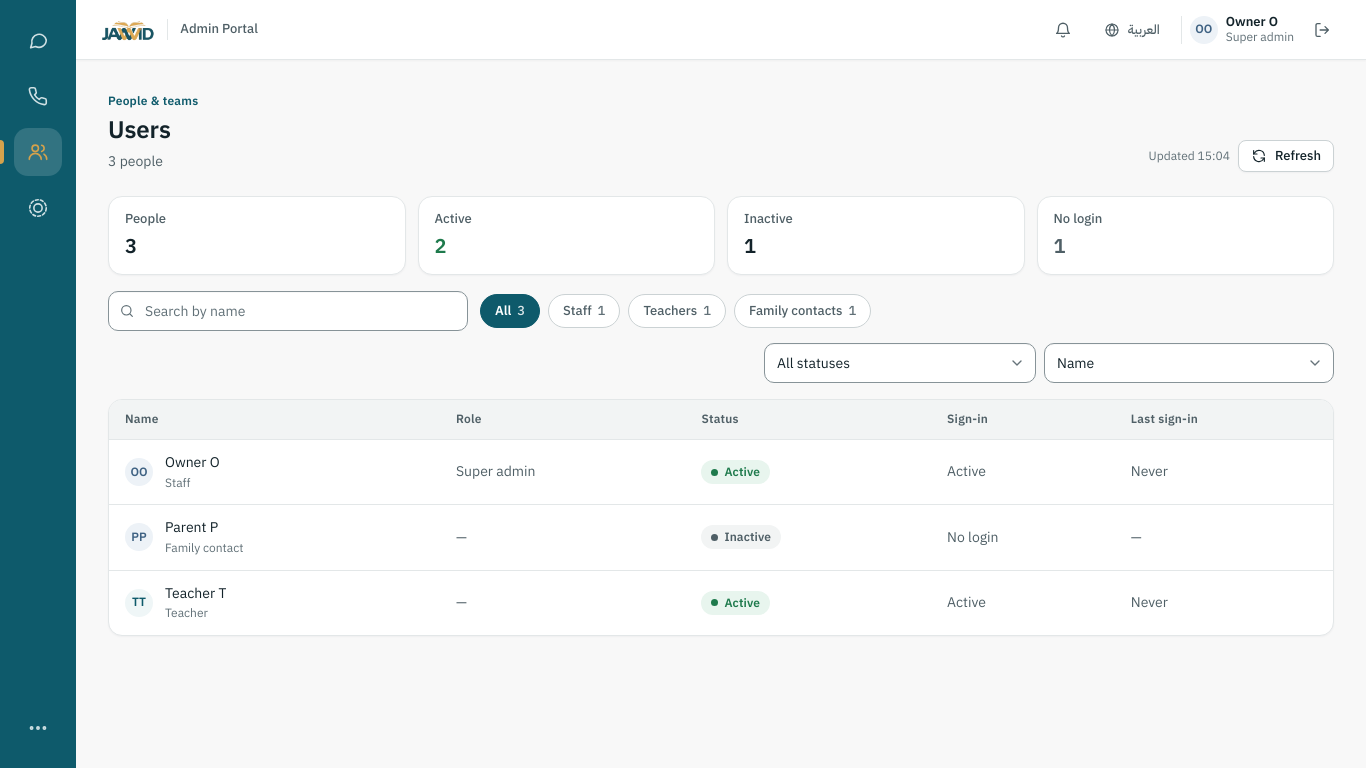
Test case: Users › filters by kind and status, and shows each user in a read-only sheet
Check: the button "Owner O" is shown, box [165,452,220,474]
Step 1. Click the button "Teachers 1" → (677, 311), box [628,294,726,328]
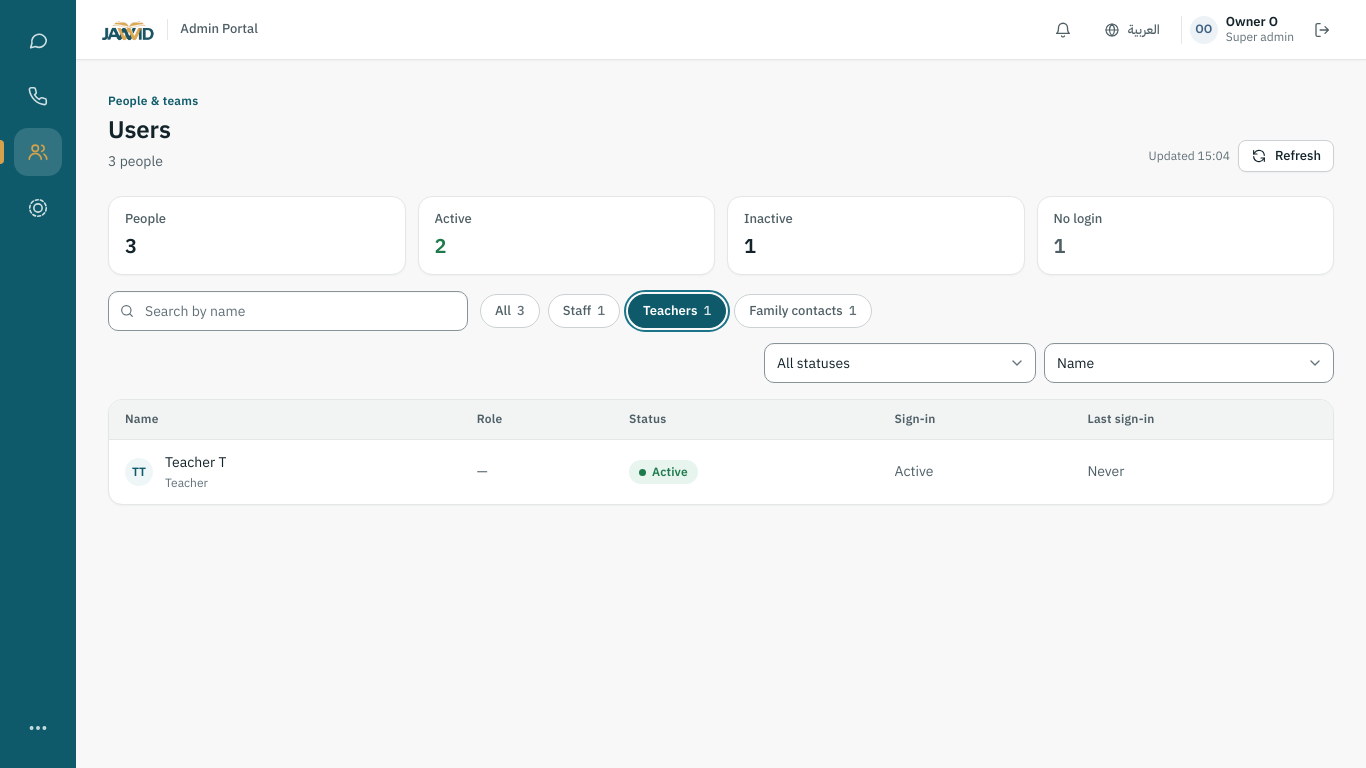
Check: the button "Teacher T" is shown, box [165,452,226,474]
Step 2. Click the button "All 3" → (510, 311), box [480,294,540,328]
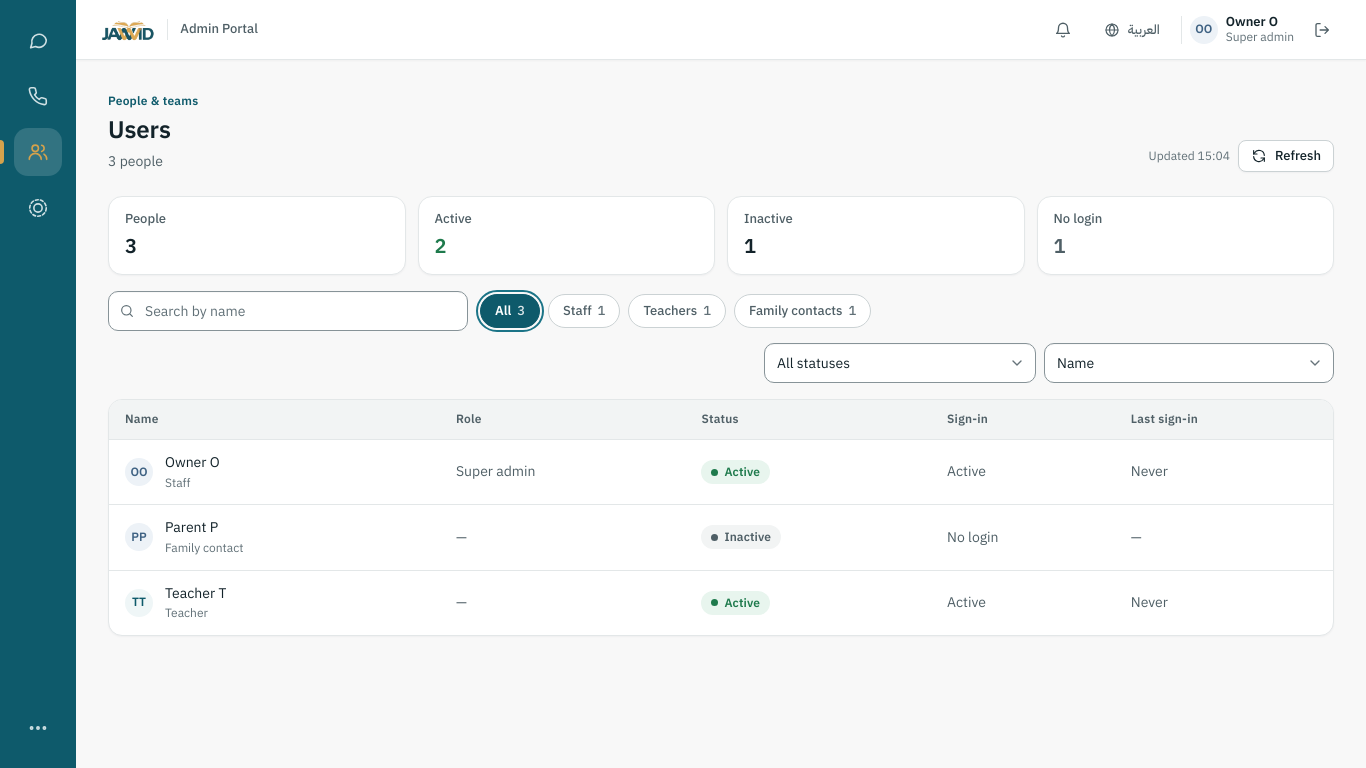
Step 3. Click the dropdown named "Status" → (900, 363), box [764,343,1036,383]
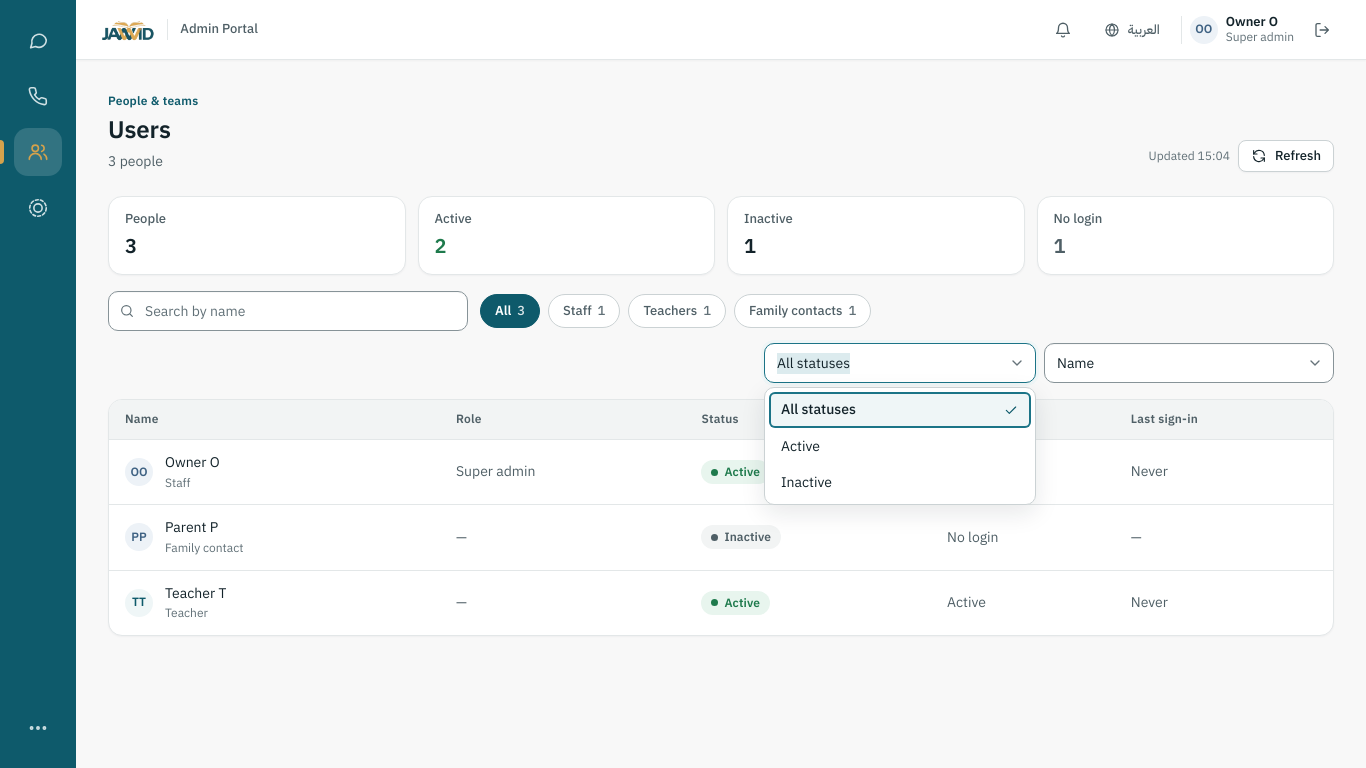
Step 4. Click the option "Inactive" → (806, 482), box [781,472,832,493]
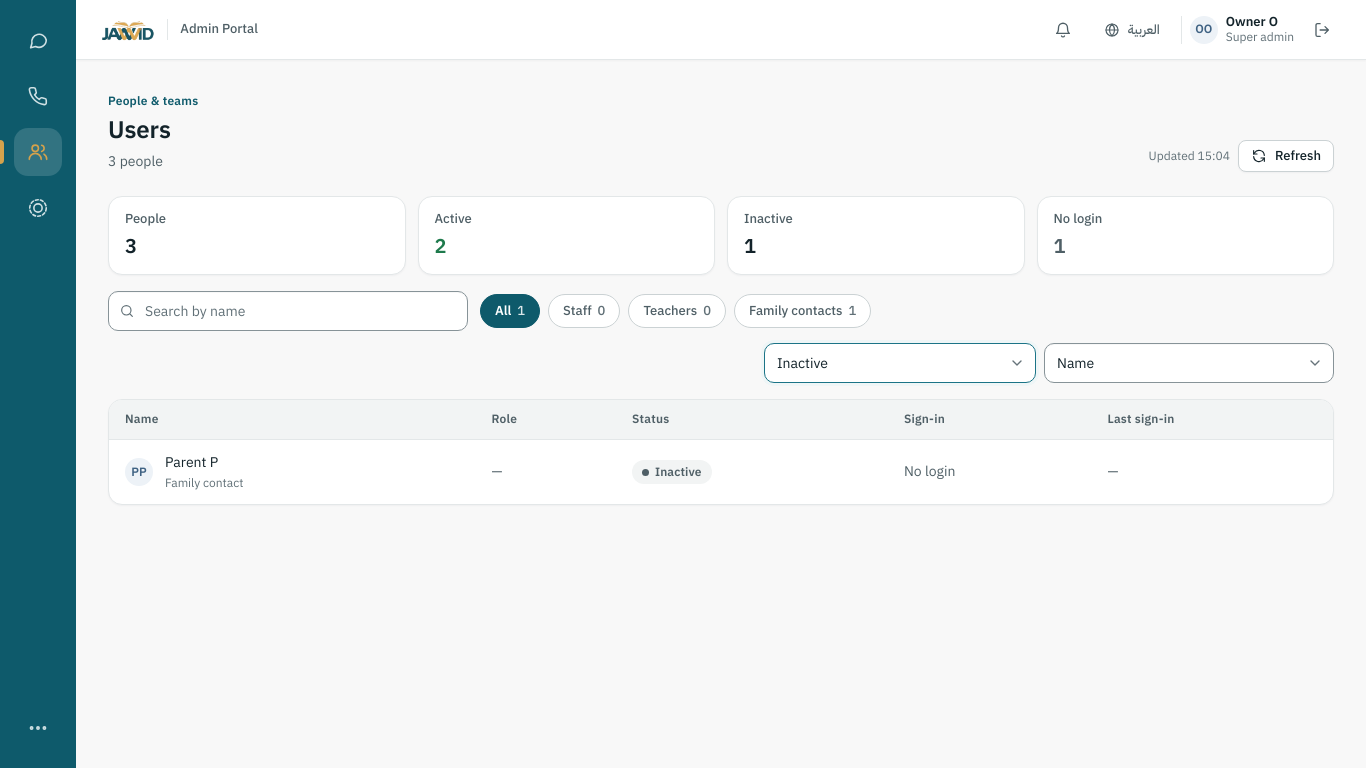
Check: the button "Parent P" is shown
Step 5. Click the button "Parent P" → (192, 463), box [165,452,218,474]
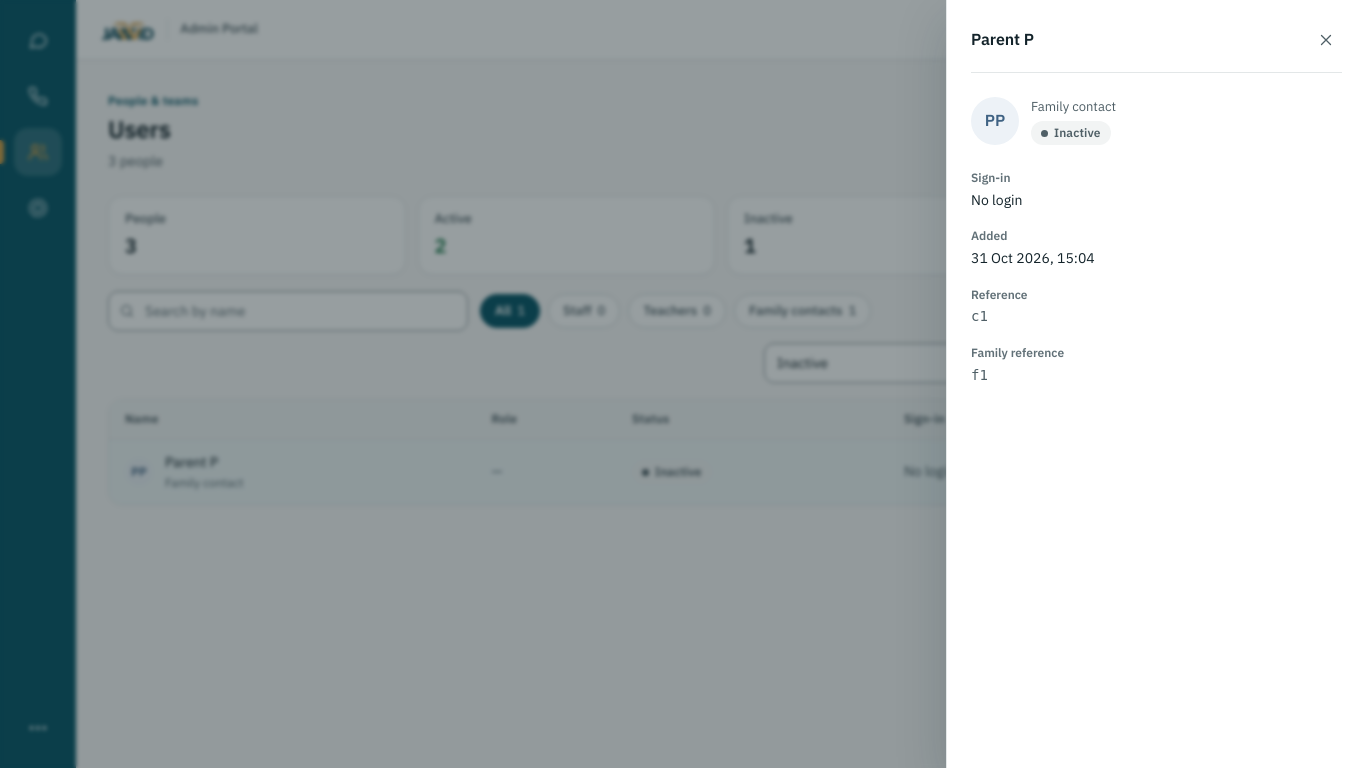
Check: the text "No login" is shown, box [971,190,1022,211]
